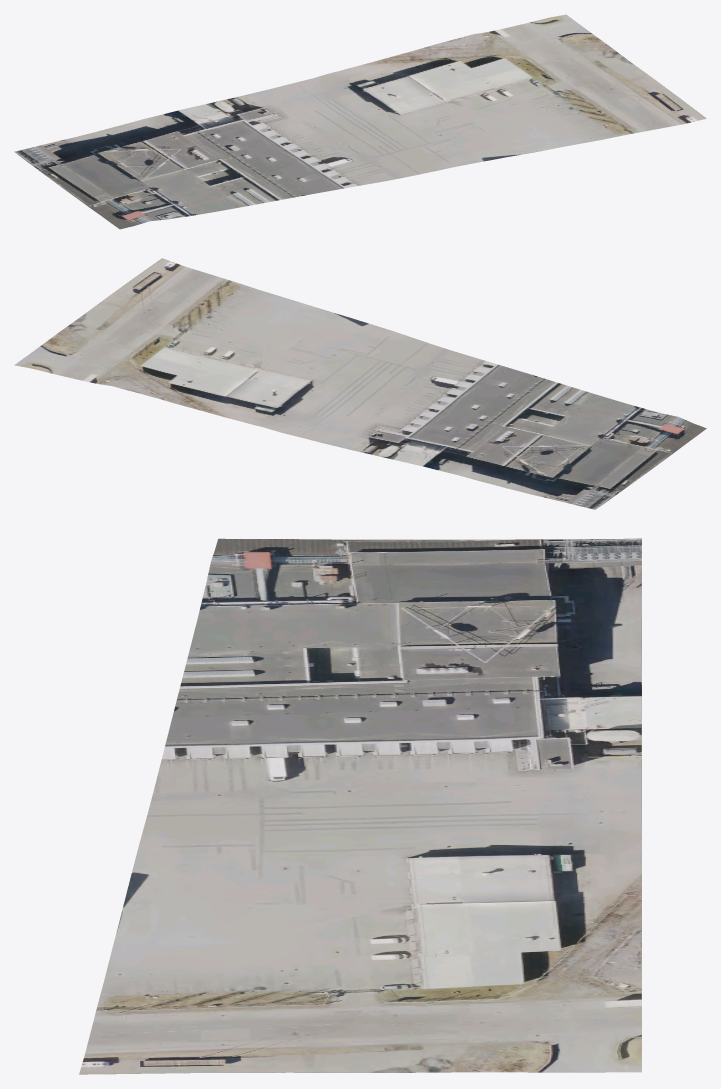
The model's file is CM_Terrain_24488615_6818565.fbx.
The picture shows the model from 3 angles, top to bottom: view 1: azimuth 30°, elevation 25°; view 2: azimuth 150°, elevation 25°; view 3: azimuth 270°, elevation 25°; orthographic projection. The views are drawn at different scales.
Parts seen in each view (by area): view 1: CM_Terrain_24488615_6818565_LOD0; view 2: CM_Terrain_24488615_6818565_LOD0; view 3: CM_Terrain_24488615_6818565_LOD0.
Part boxes in pixels (x1,y1,x2,y2): CM_Terrain_24488615_6818565_LOD0: [14, 14, 706, 229]; CM_Terrain_24488615_6818565_LOD0: [14, 258, 706, 509]; CM_Terrain_24488615_6818565_LOD0: [79, 538, 641, 1074].
Size of what is drawn, in the model's own units: 205 by 2.41 by 90.39.
